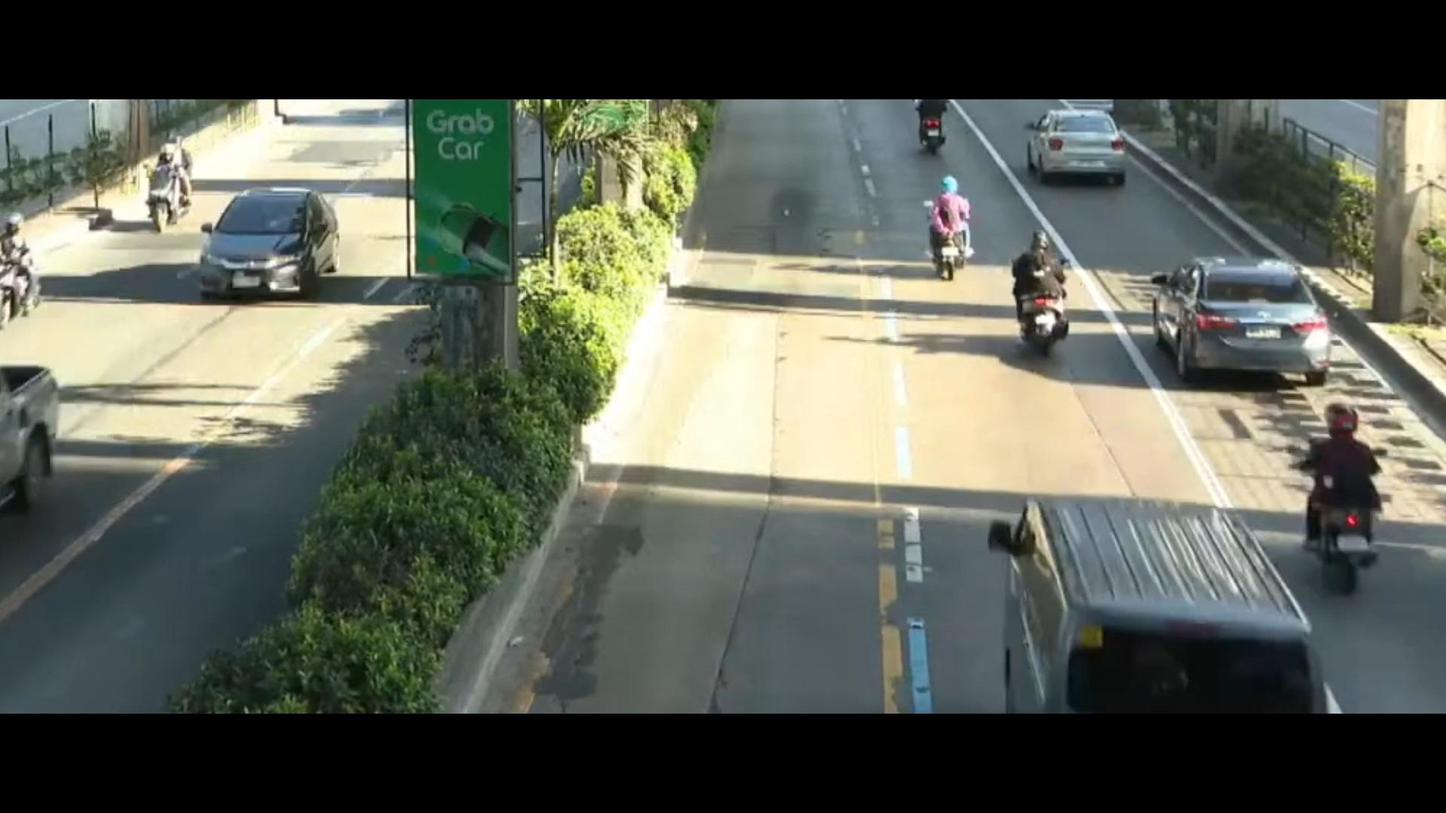Motorcycle: (1295, 390, 1405, 602), (998, 230, 1081, 367), (905, 162, 985, 302), (125, 130, 215, 246), (0, 207, 42, 307), (909, 102, 966, 173)
Pickup: (0, 345, 102, 516)
Sedan: (1143, 245, 1344, 385), (164, 160, 343, 314), (1022, 93, 1147, 197)
Van: (946, 461, 1331, 716)
